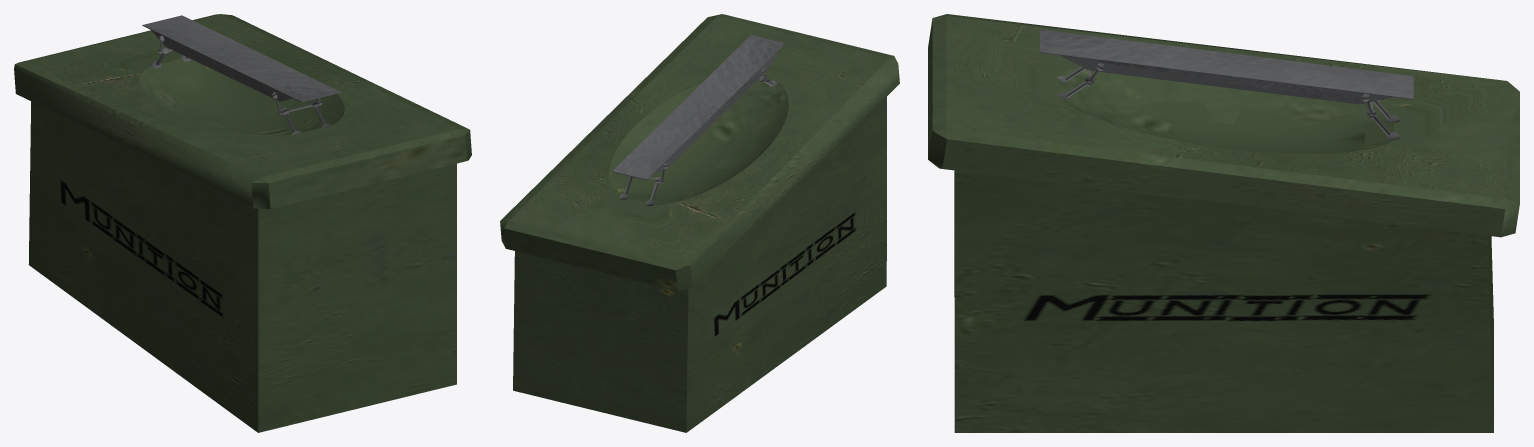
Rendered from ammo-box.FBX.
The picture shows the model from 3 angles, left to right: view 1: azimuth 30°, elevation 25°; view 2: azimuth 150°, elevation 25°; view 3: azimuth 270°, elevation 25°; orthographic projection. The views are drawn at different scales.
Visible parts, largest first — view 1: Box002; view 2: Box002; view 3: Box002.
Part boxes in pixels (x1,y1,x2,y2): Box002: [14, 14, 471, 432]; Box002: [500, 14, 899, 432]; Box002: [928, 14, 1519, 432].
Size of the model in its own units: 22 by 27.45 by 43.91.
Materials: 1 (1 with a texture image).
